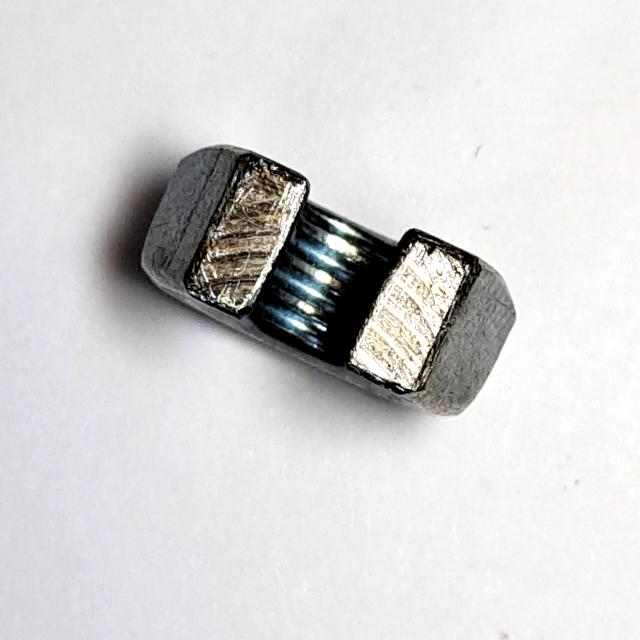Side-Fracture: (128, 123, 527, 438)
